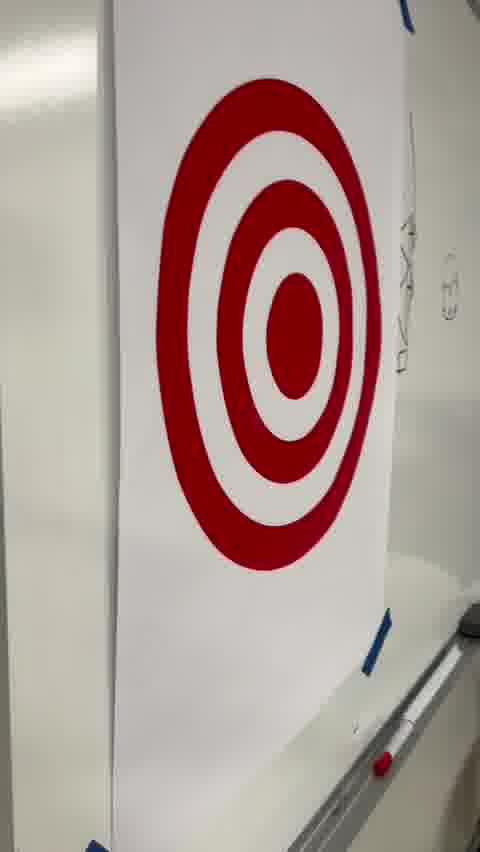target_red: (155, 76, 384, 570)
